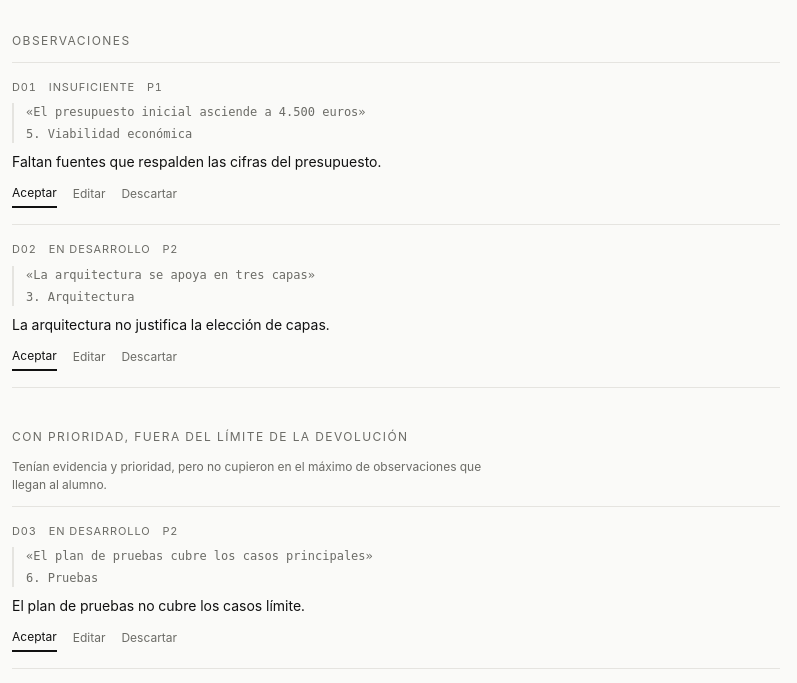
it: Revision › antes de guardar: al descartar una prioridad cuya acción sigue en el borrador, aparece el aviso, sin nombrar la dimensión, con la tinta de señal
The image size is (797, 683).
(page scrolled)
Click the button "Descartar" below "La arquitectura se apoya en tres capas".
click(149, 358)  # box [121,346,177,370]
(page scrolled)
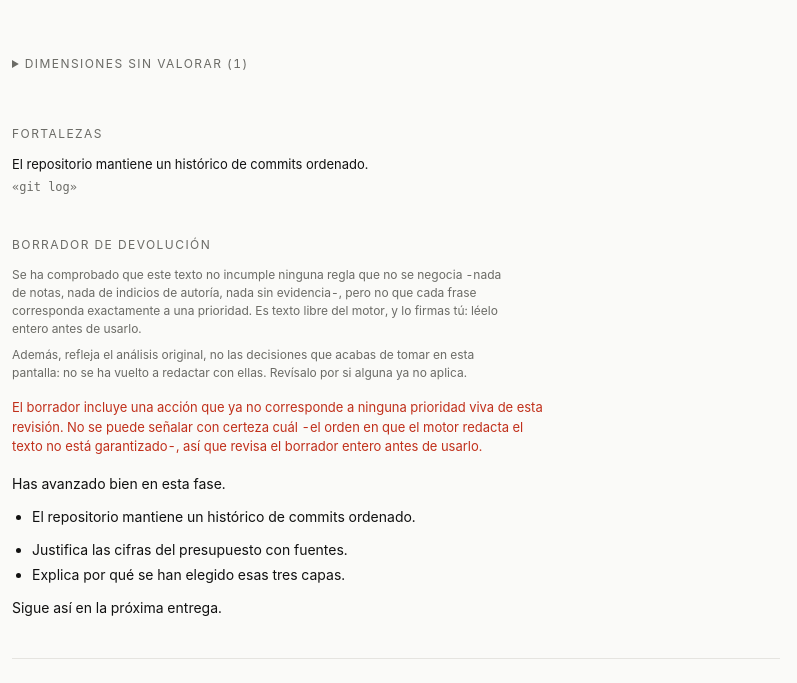
Expected: the text "el borrador incluye una acción que ya no corresponde a ninguna prioridad viva" does not show "D02"
Now the text "El borrador incluye una acción que ya no corresponde a ninguna prioridad viva" is shown, box [12,399,543,454]
